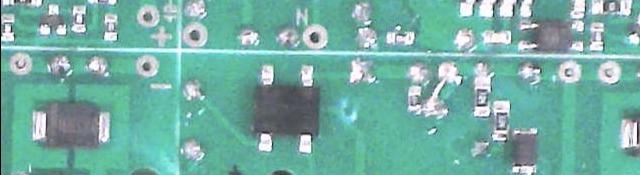chip-capacitor: (481, 29, 510, 43), (571, 0, 584, 17)
chip-resistor: (491, 100, 510, 143), (473, 77, 490, 117), (593, 0, 631, 16), (385, 31, 414, 45), (71, 5, 86, 32), (406, 85, 421, 110), (1, 14, 14, 42), (590, 22, 603, 49), (103, 15, 117, 40)
diode: (33, 102, 108, 149), (511, 127, 537, 174)
ic: (253, 64, 320, 152), (518, 19, 585, 51)
transistor: (40, 5, 67, 36)
